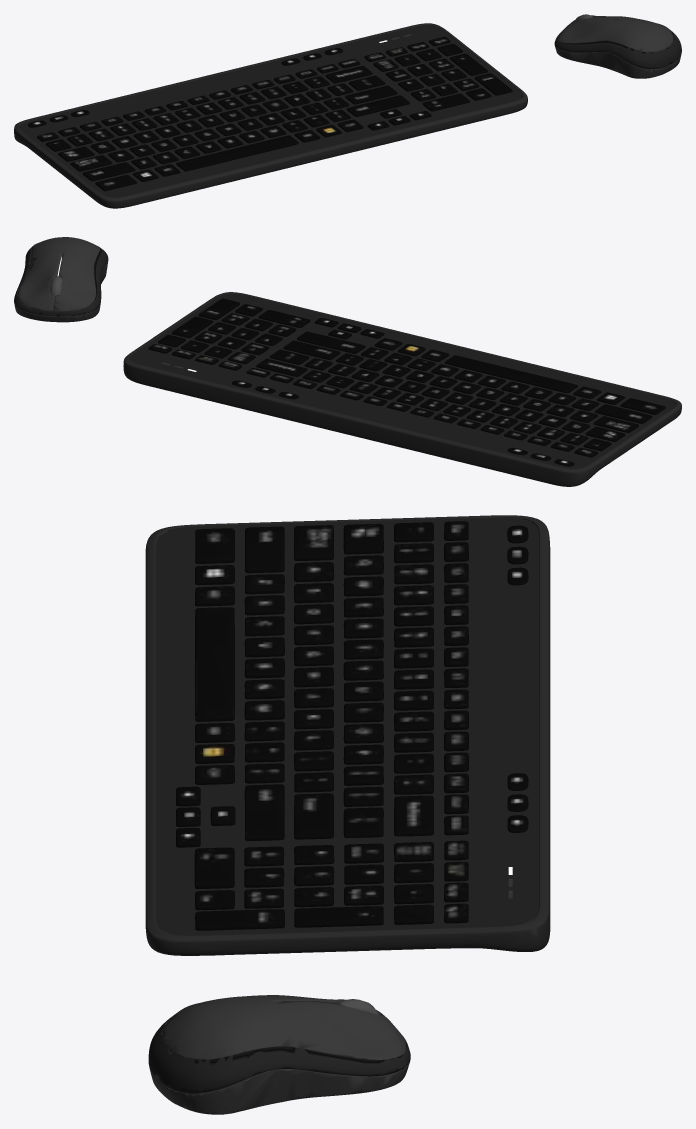
The model's file is keyboard.glb.
3 views of the same model, one above another, from view 1: azimuth 30°, elevation 25°; view 2: azimuth 150°, elevation 25°; view 3: azimuth 270°, elevation 25° (orthographic). The views are drawn at different scales.
Parts seen in each view (by area): view 1: Plane.017_4, Plane.026_3, Plane.027_2, Plane.015_1; view 2: Plane.017_4, Plane.026_3, Plane.027_2, Plane.015_1; view 3: Plane.017_4, Plane.026_3, Plane.015_1, Plane.027_2.
Part boxes in pixels (x1,y1,x2,y2): Plane.017_4: [28, 36, 512, 191]; Plane.026_3: [19, 25, 522, 197]; Plane.027_2: [14, 23, 527, 208]; Plane.015_1: [554, 14, 681, 78]; Plane.017_4: [148, 298, 665, 466]; Plane.026_3: [129, 294, 675, 468]; Plane.027_2: [123, 292, 681, 486]; Plane.015_1: [14, 237, 108, 322]; Plane.017_4: [176, 521, 528, 930]; Plane.026_3: [156, 517, 538, 935]; Plane.015_1: [148, 995, 410, 1114]; Plane.027_2: [145, 515, 550, 955].
Bounding box in the file's own units: 0.62 × 0.038 × 0.1845.
9 materials, 1 textured.
